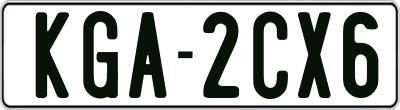2: (202, 11, 239, 97)
6: (342, 12, 379, 103)
A: (128, 11, 167, 100)
C: (251, 9, 290, 98)
G: (83, 10, 122, 99)
K: (36, 10, 71, 101)
X: (297, 9, 334, 97)
